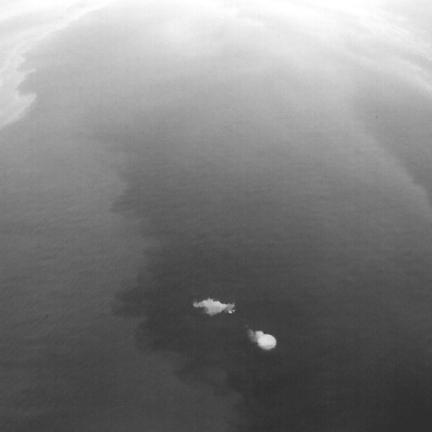flukeprints: (193, 298, 235, 315), (248, 330, 276, 349)
